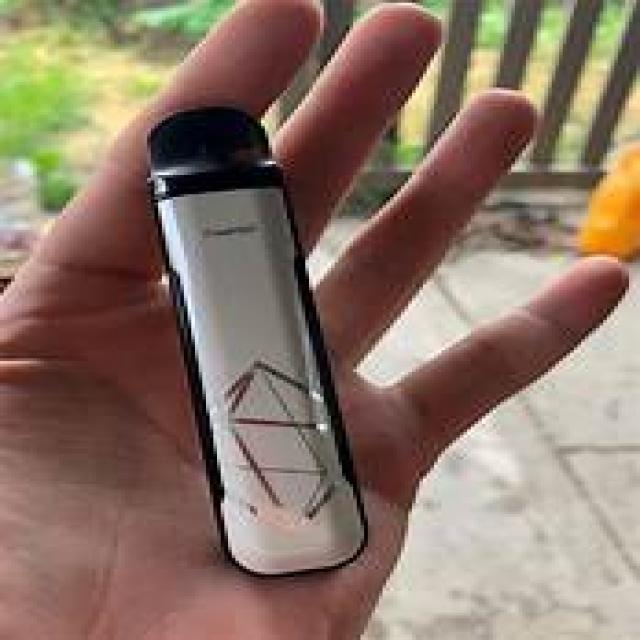Hazard: (144, 106, 374, 582)
